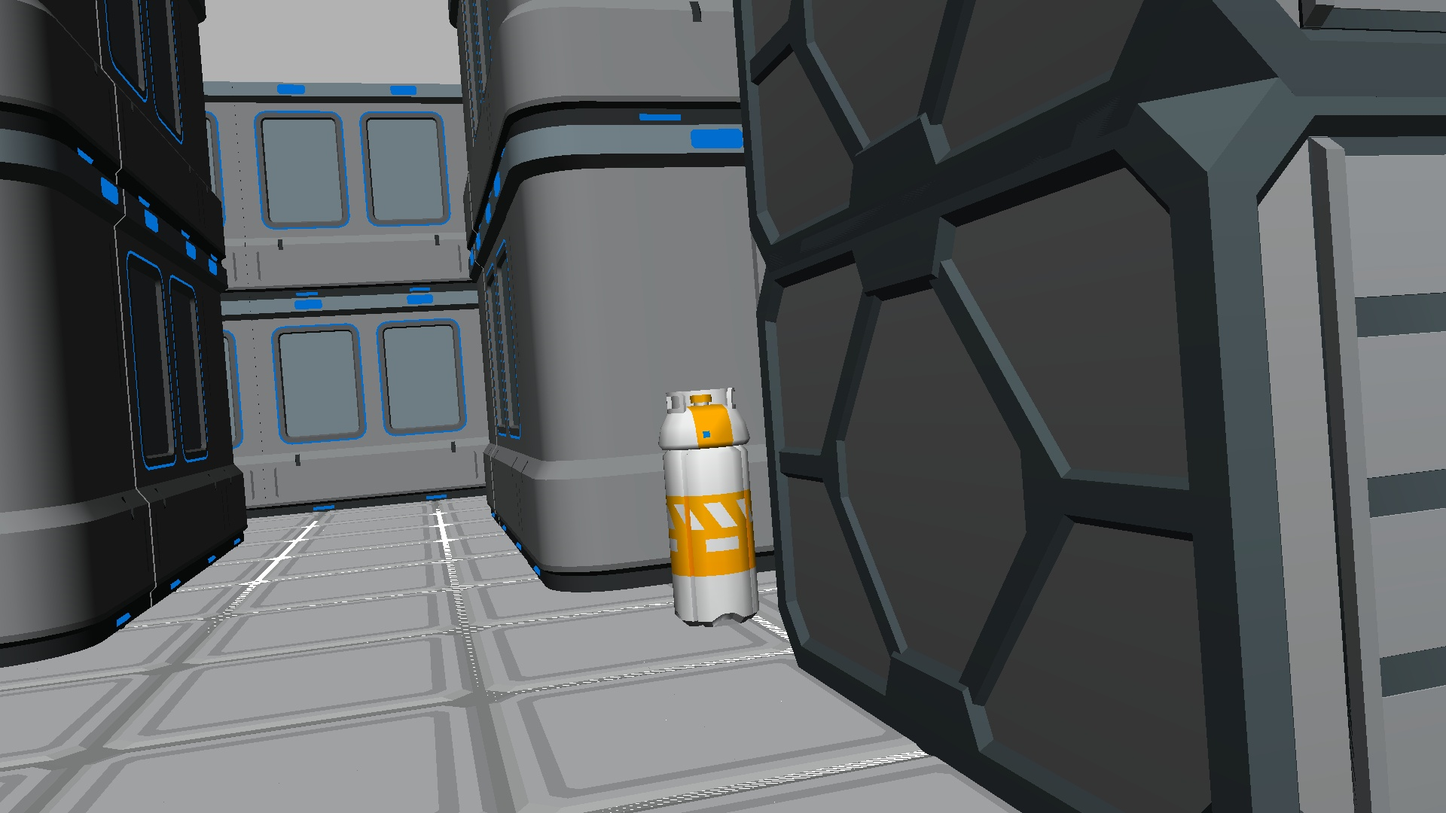yellow barrel: (658, 387, 759, 626)
